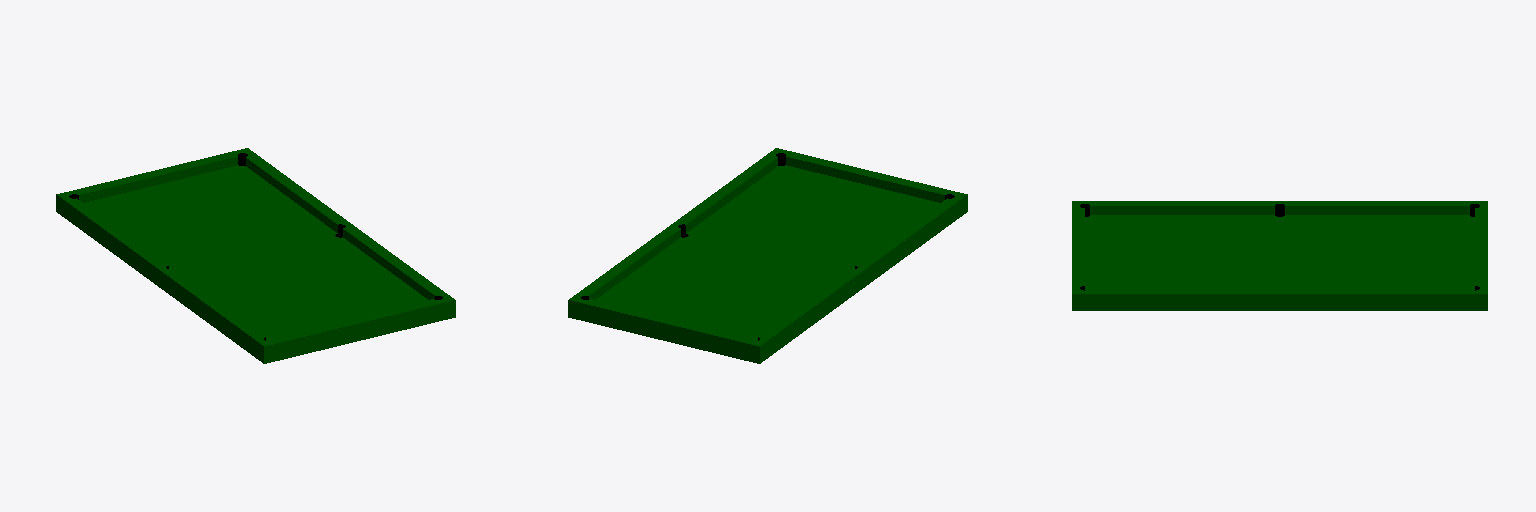
The model's file is pooltable.obj.
The picture shows the model from 3 angles: view 1: azimuth 30°, elevation 25°; view 2: azimuth 150°, elevation 25°; view 3: azimuth 270°, elevation 25°; orthographic projection.
Visible parts, largest first — view 1: Cube; view 2: Cube; view 3: Cube.
Boxes of the visible parts, box(x1,y1,x2,y2) form: Cube: box(56, 148, 455, 363); Cube: box(568, 148, 967, 363); Cube: box(1072, 201, 1487, 310).
Size of the model in its own units: 170 by 15 by 320.